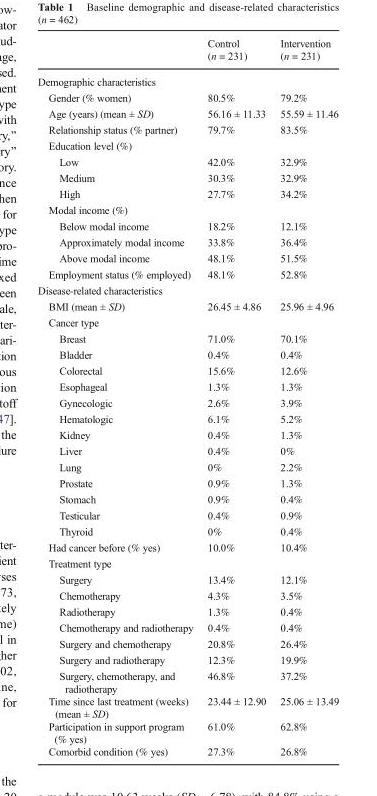table: (37, 36, 338, 756)
table column: (37, 36, 199, 756), (199, 36, 272, 756), (272, 36, 338, 756)
table column header: (37, 36, 338, 68)
table projected row header: (37, 68, 338, 89), (37, 554, 338, 571), (37, 137, 338, 153), (37, 201, 338, 217), (37, 281, 338, 297), (37, 314, 338, 330)
table row: (37, 36, 338, 68), (37, 667, 338, 694), (37, 694, 338, 719), (37, 719, 338, 744), (37, 68, 338, 89), (37, 104, 338, 121), (37, 297, 338, 314), (37, 554, 338, 571), (37, 121, 338, 137), (37, 137, 338, 153), (37, 153, 338, 169), (37, 169, 338, 185), (37, 185, 338, 201), (37, 201, 338, 217), (37, 217, 338, 233), (37, 233, 338, 249), (37, 249, 338, 265), (37, 265, 338, 281), (37, 281, 338, 297), (37, 314, 338, 330), (37, 330, 338, 346), (37, 346, 338, 362), (37, 362, 338, 378), (37, 378, 338, 394), (37, 394, 338, 410), (37, 410, 338, 426), (37, 426, 338, 442), (37, 442, 338, 458), (37, 458, 338, 474), (37, 474, 338, 490), (37, 490, 338, 506), (37, 506, 338, 522), (37, 522, 338, 538), (37, 538, 338, 554), (37, 571, 338, 587), (37, 587, 338, 603), (37, 603, 338, 619), (37, 619, 338, 635), (37, 635, 338, 651), (37, 651, 338, 667), (37, 89, 338, 104), (37, 744, 338, 756)
